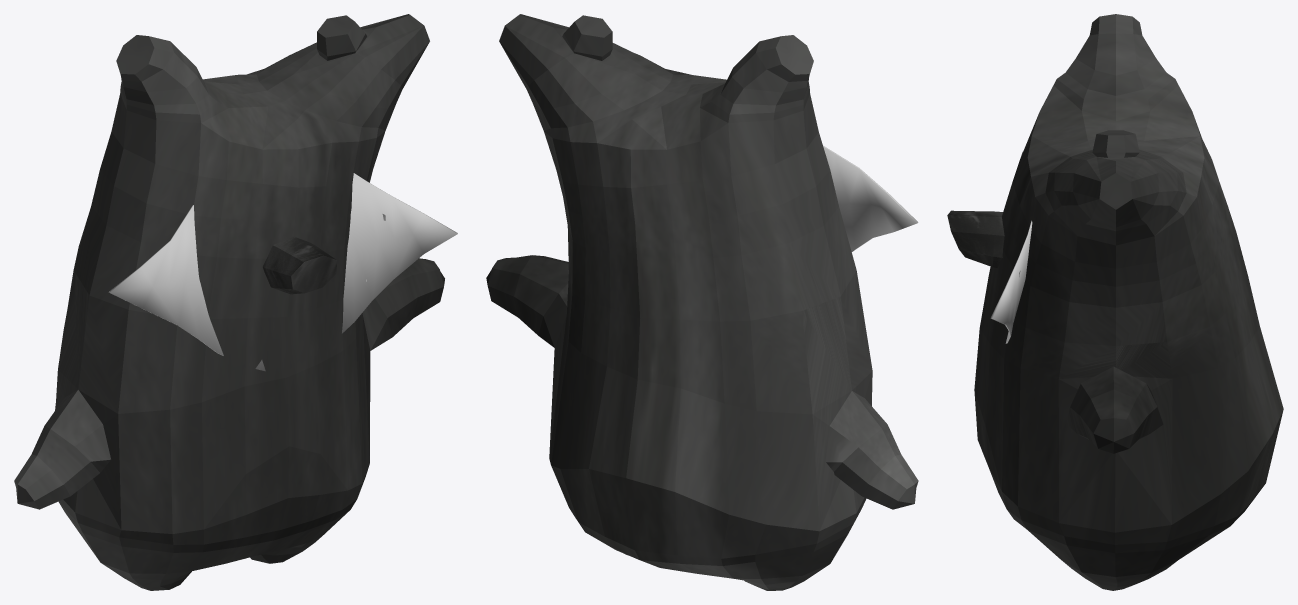
File: frame_0051.obj
3 renders of one model, left to right at view 1: azimuth 30°, elevation 25°; view 2: azimuth 150°, elevation 25°; view 3: azimuth 270°, elevation 25°, orthographic. The views are drawn at different scales.
Visible parts, largest first — view 1: korok, leaf, nose; view 2: korok, leaf; view 3: korok, nose, leaf.
Boxes of the visible parts, x1,y1,x2,y2 form: korok: [14, 14, 444, 590]; leaf: [108, 173, 457, 371]; nose: [263, 236, 337, 294]; korok: [486, 14, 918, 590]; leaf: [823, 145, 918, 251]; korok: [974, 14, 1283, 590]; nose: [947, 210, 1004, 267]; leaf: [990, 152, 1032, 343].
Size of the model in its own units: 1.74 by 2.16 by 1.27.
